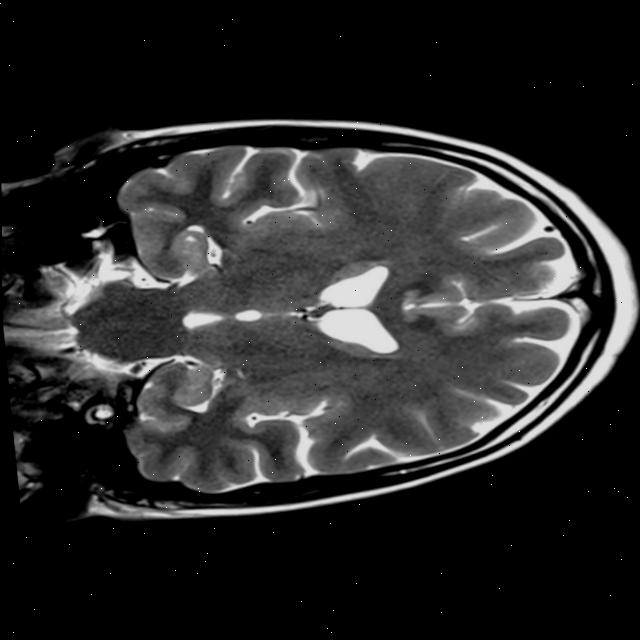NoTumor: (94, 85, 640, 531)
